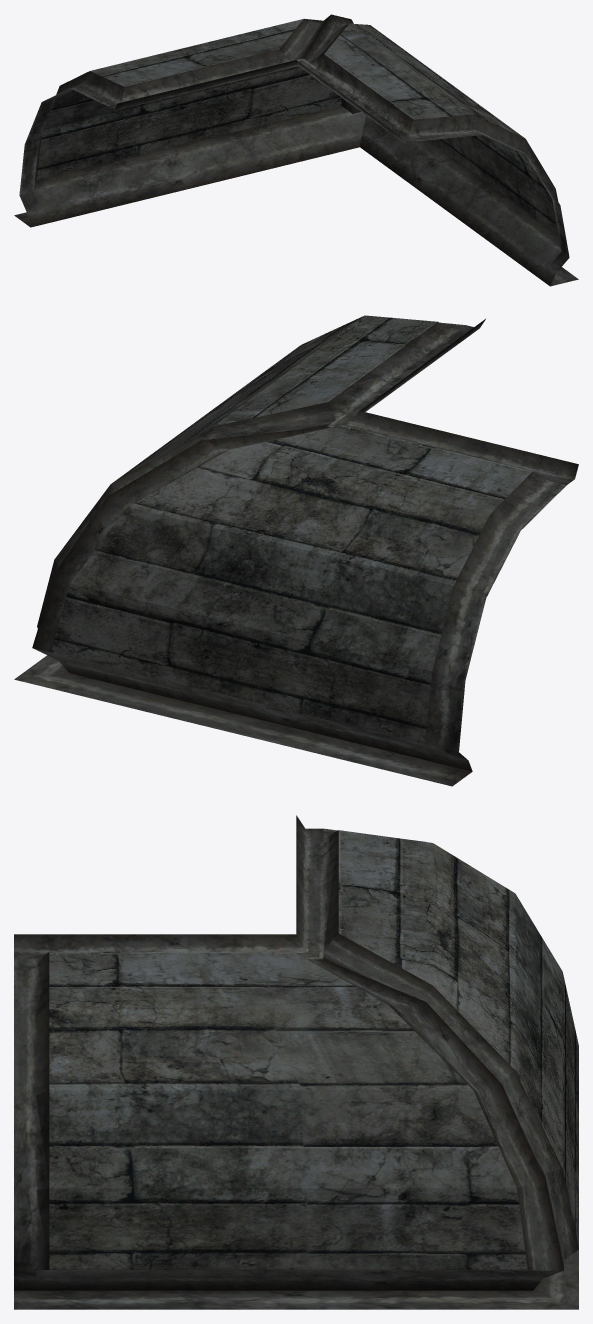
Rendered from corner_concave_flat.dae.
3 views of the same model, one above another, from view 1: azimuth 30°, elevation 25°; view 2: azimuth 150°, elevation 25°; view 3: azimuth 270°, elevation 25° (orthographic). The views are drawn at different scales.
Parts seen in each view (by area): view 1: polySurface21, polySurface20; view 2: polySurface20, polySurface21; view 3: polySurface20, polySurface21.
Part boxes in pixels (x1=…): polySurface21: x1=14, y1=14, x2=578, y2=286; polySurface20: x1=36, y1=19, x2=558, y2=234; polySurface20: x1=51, y1=315, x2=532, y2=743; polySurface21: x1=14, y1=319, x2=578, y2=786; polySurface20: x1=49, y1=830, x2=578, y2=1269; polySurface21: x1=14, y1=815, x2=578, y2=1309.
Bounding box in the file's own units: 4 × 2 × 4.
